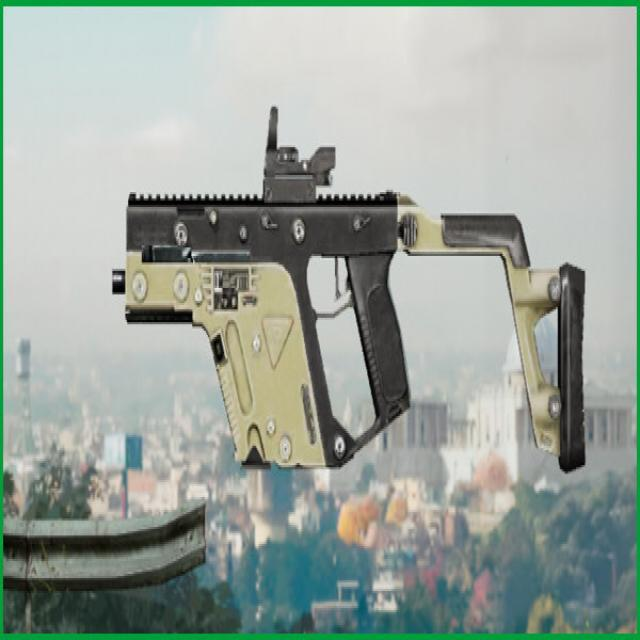scope: (247, 91, 349, 208)
smg: (115, 176, 592, 485)
